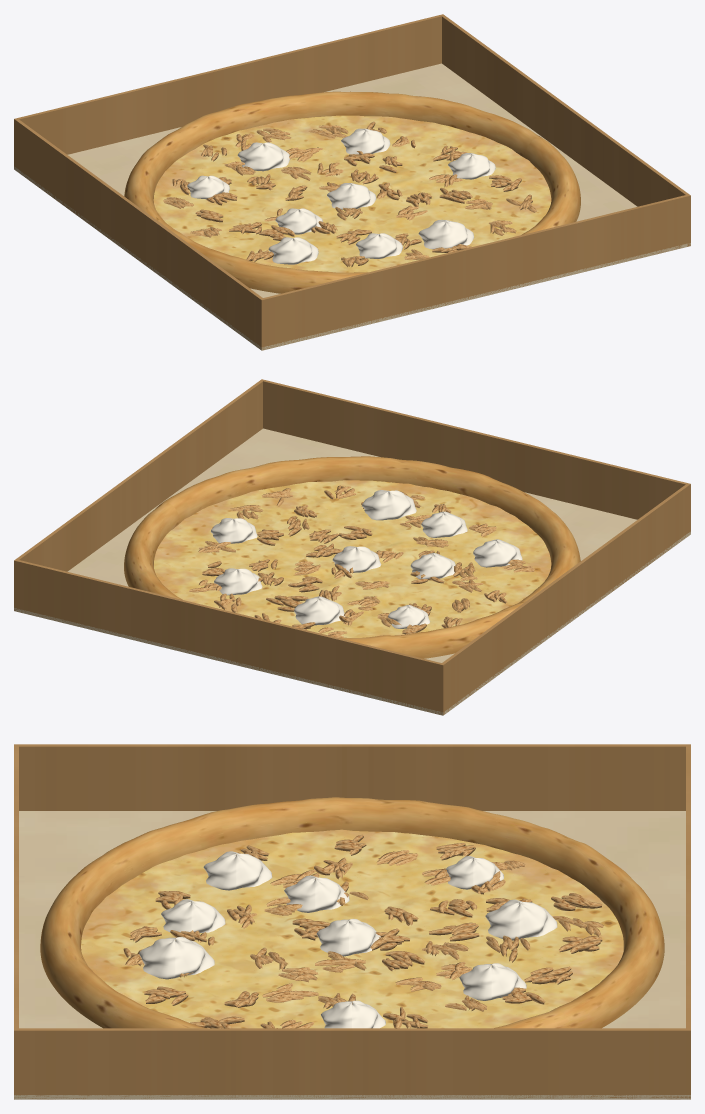
File: pizza-caixa-frango-catupiry.glb
3 views of the same model, one above another, from view 1: azimuth 30°, elevation 25°; view 2: azimuth 150°, elevation 25°; view 3: azimuth 270°, elevation 25° (orthographic). The views are drawn at different scales.
Visible parts, largest first — view 1: pizza-caixa-frango-catupiry; view 2: pizza-caixa-frango-catupiry; view 3: pizza-caixa-frango-catupiry.
Part boxes in pixels (bbox=[...]): pizza-caixa-frango-catupiry: bbox=[14, 14, 690, 350]; pizza-caixa-frango-catupiry: bbox=[14, 379, 690, 715]; pizza-caixa-frango-catupiry: bbox=[14, 744, 690, 1099].
Bounding box in the file's own units: 0.4 × 0.045 × 0.4.
6 materials, 5 textured.
